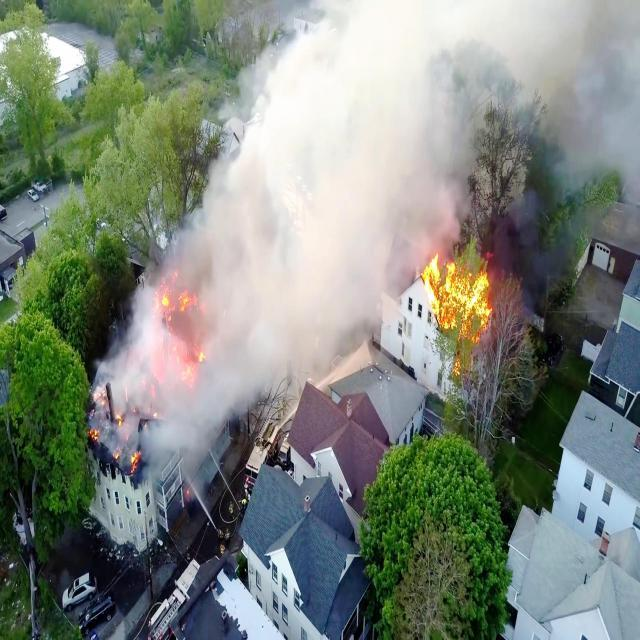Fire: (420, 242, 490, 336)
